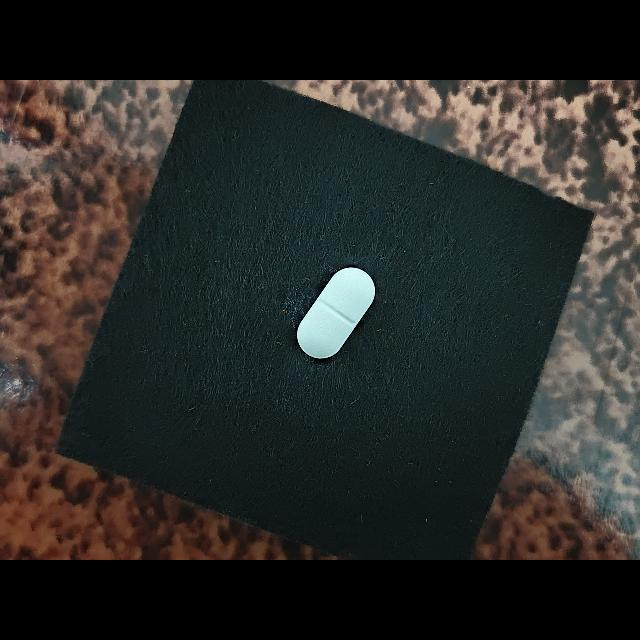Intact Pill: (297, 267, 375, 358)
